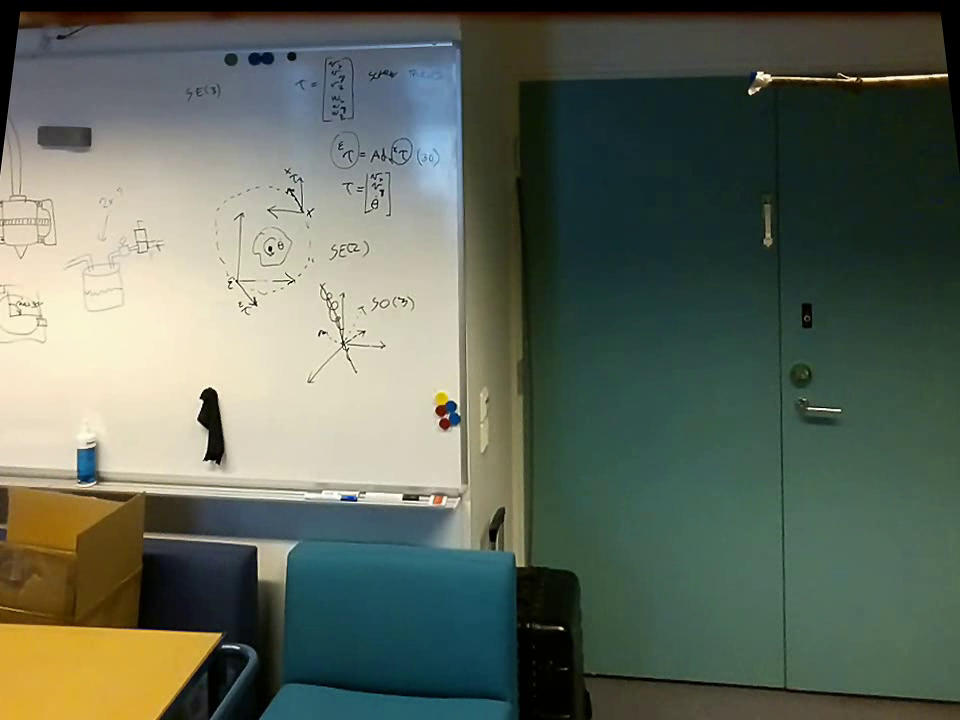aluminum_frame: (2, 461, 465, 514), (0, 462, 474, 501), (9, 34, 462, 65), (455, 35, 471, 510)
branch: (775, 57, 944, 98)
